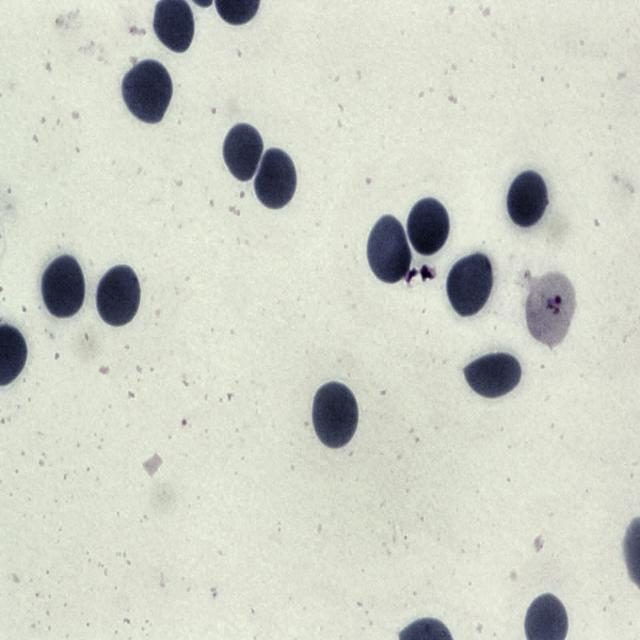red blood cell: (121, 56, 173, 126), (311, 378, 360, 451), (446, 250, 495, 320), (366, 212, 412, 286), (40, 251, 87, 322), (94, 261, 142, 329), (462, 351, 522, 402), (254, 145, 298, 213), (223, 119, 265, 184), (506, 168, 549, 230), (407, 196, 451, 256)
ring: (524, 269, 573, 349)
